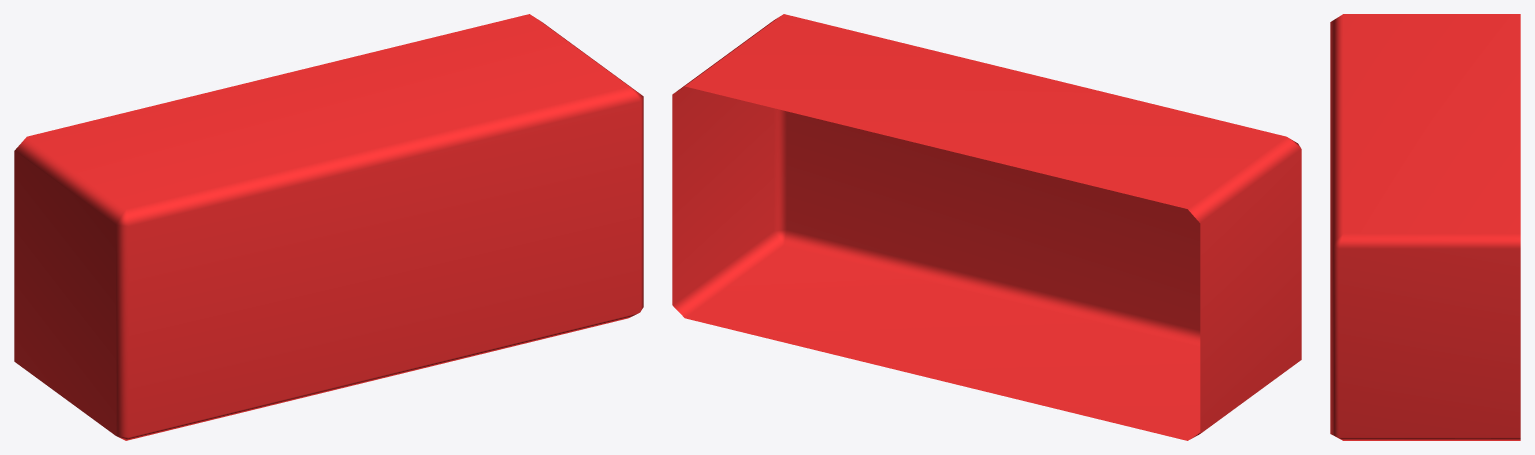
File: DBK_Trim_Brick_Middle.fbx
The picture shows the model from 3 angles, left to right: view 1: azimuth 30°, elevation 25°; view 2: azimuth 150°, elevation 25°; view 3: azimuth 270°, elevation 25°; orthographic projection. The views are drawn at different scales.
Parts seen in each view (by area): view 1: DBK_Trim_Brick_Middle; view 2: DBK_Trim_Brick_Middle; view 3: DBK_Trim_Brick_Middle.
Boxes of the visible parts, x1=… form: DBK_Trim_Brick_Middle: x1=14, y1=14, x2=643, y2=440; DBK_Trim_Brick_Middle: x1=672, y1=14, x2=1301, y2=440; DBK_Trim_Brick_Middle: x1=1330, y1=14, x2=1520, y2=440.
Size of the model in its own units: 62.84 by 26.37 by 21.92.
